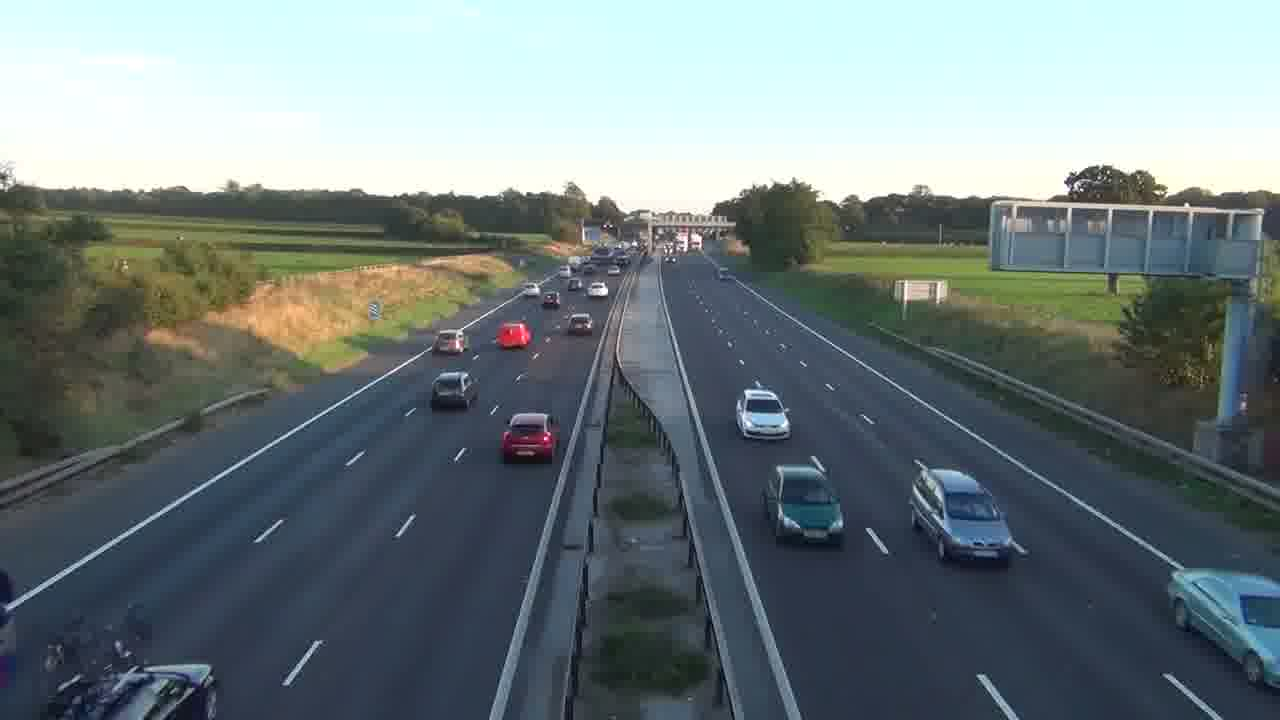car: (909, 458, 1024, 564), (762, 460, 845, 545), (500, 412, 561, 464), (735, 387, 792, 441), (430, 370, 479, 409), (567, 312, 593, 335), (587, 280, 609, 297), (542, 292, 560, 309)
truck: (1167, 566, 1280, 689)
